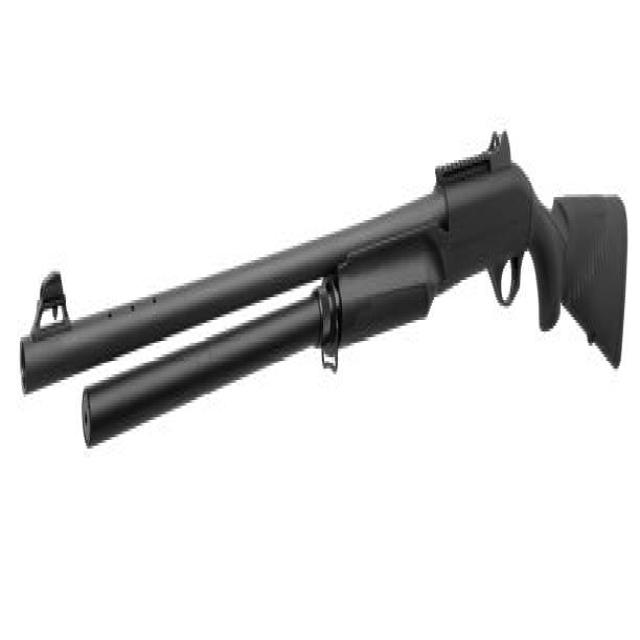rifle: (12, 120, 629, 475)
